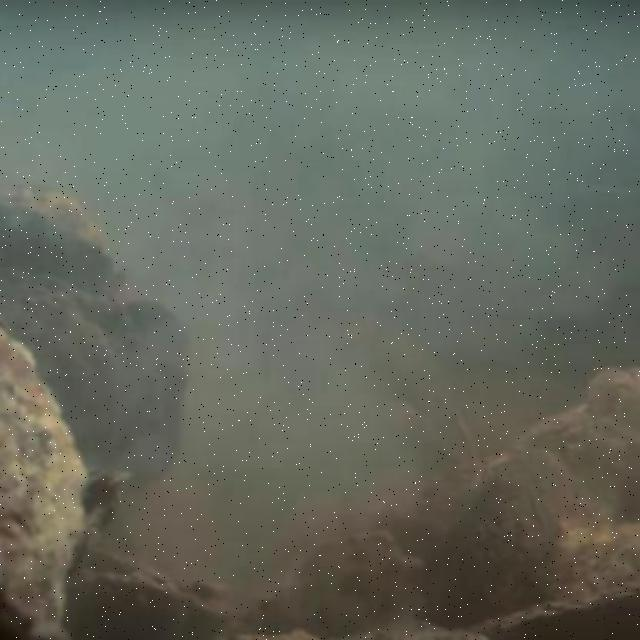Oyster-Closed: (0, 333, 83, 622), (0, 255, 124, 430), (90, 300, 189, 472), (453, 580, 640, 640), (0, 190, 116, 283)
